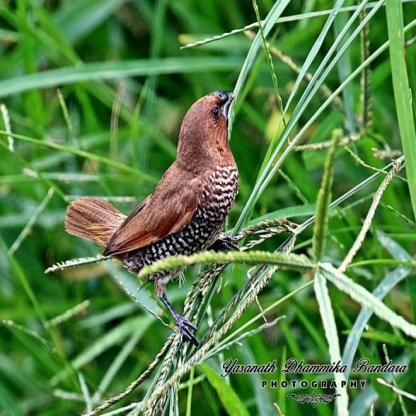Burung: (64, 90, 239, 346)
